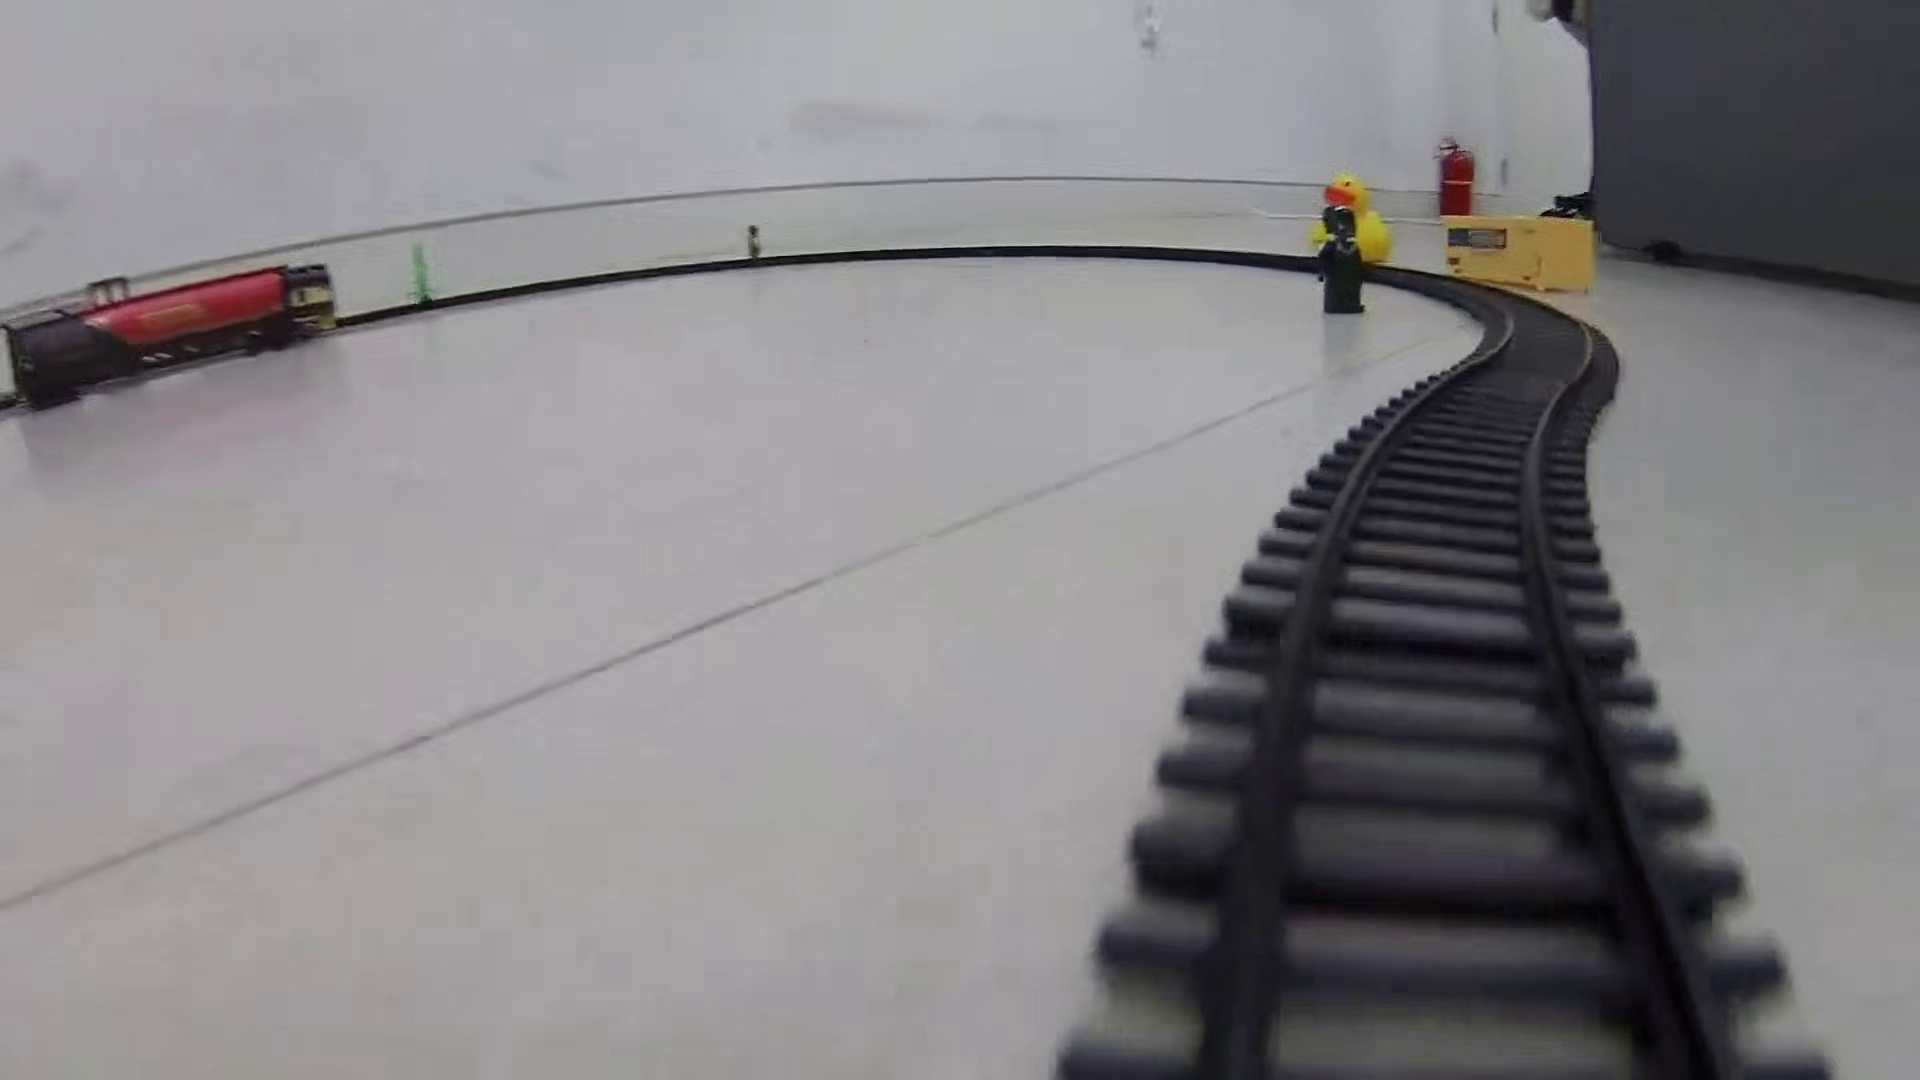people: (1313, 201, 1369, 315), (743, 220, 762, 266)
tree: (403, 241, 439, 307)
